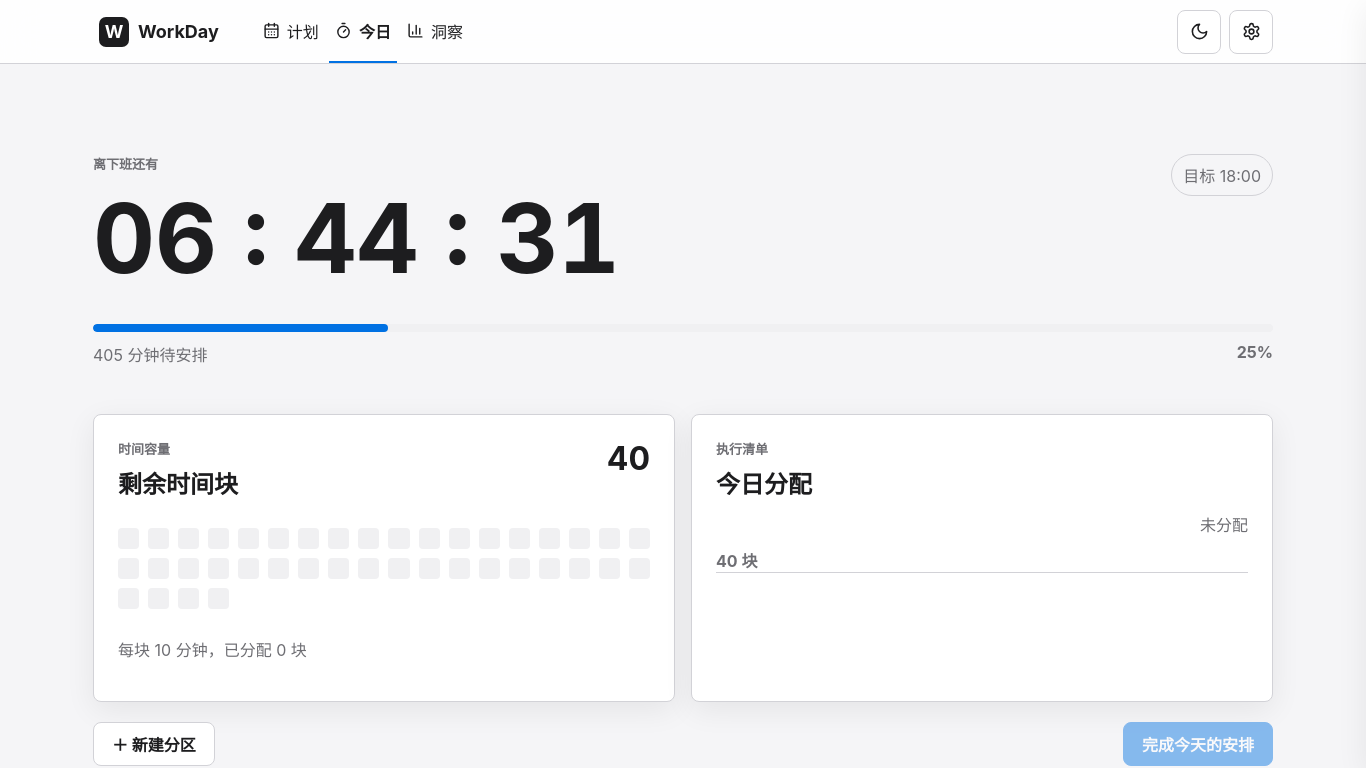
Test: WorkDay 核心流程 › 打开导入弹窗时会收起设置抽屉
The image size is (1366, 768).
Click the button named "打开设置" at [1251, 32], box [1229,10,1273,54]
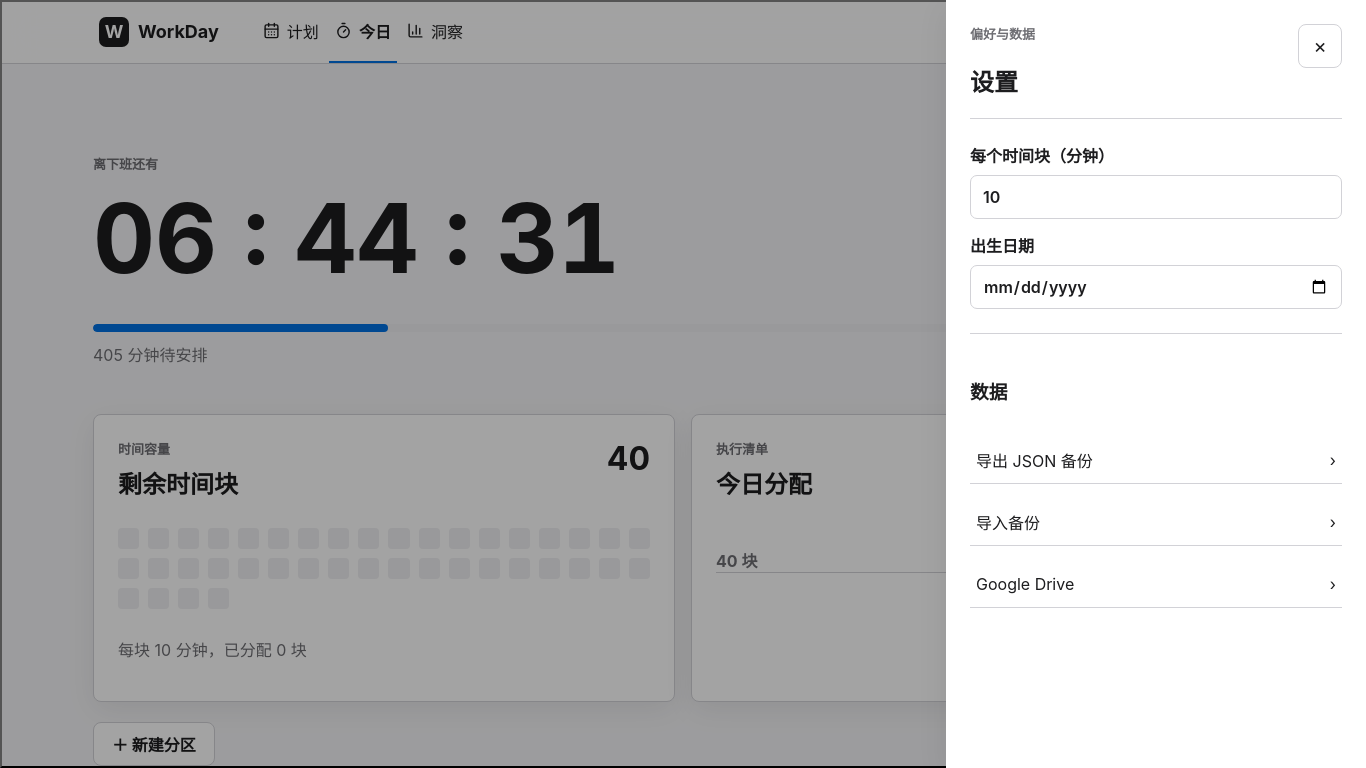
Click the button "导入备份 ›" at [1008, 523], box [970,498,1342,546]
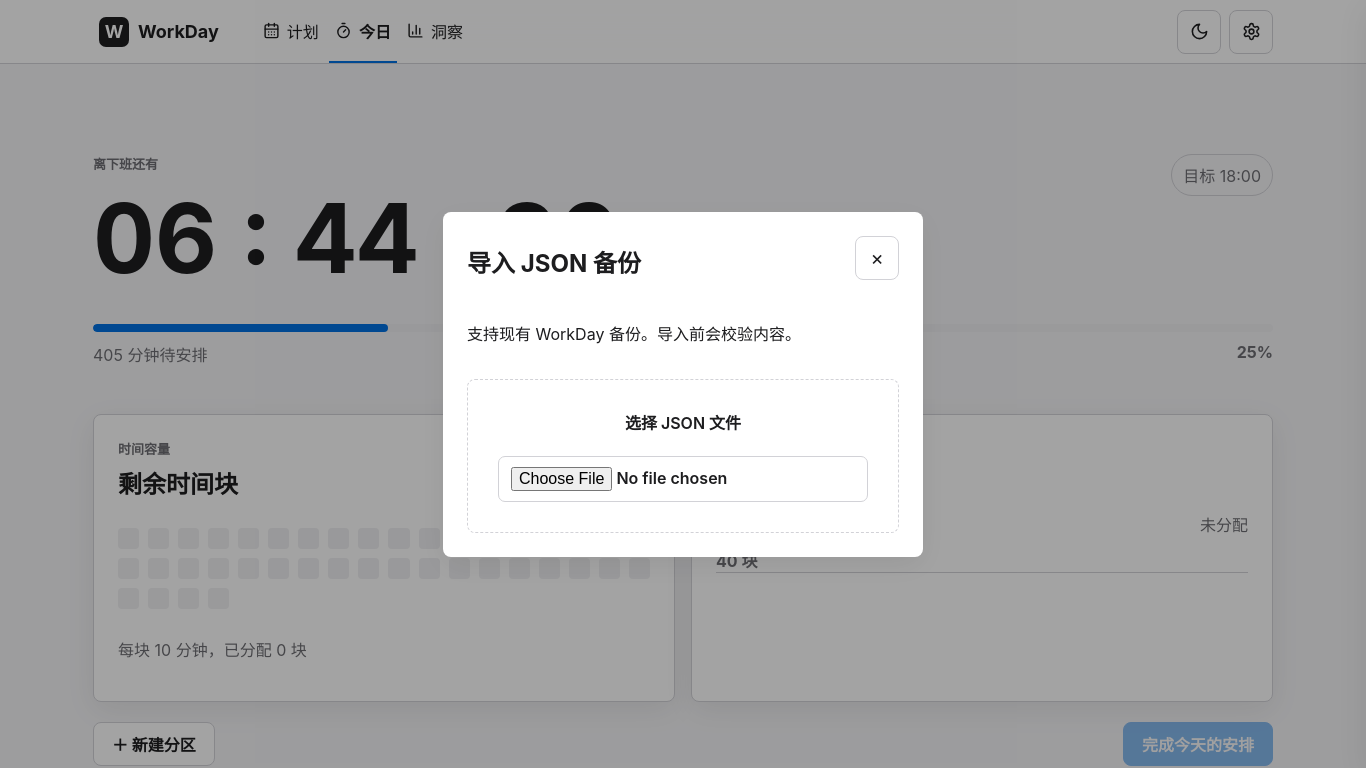
Expected: the heading "导入 JSON 备份" is shown, [467,244,641,278]
